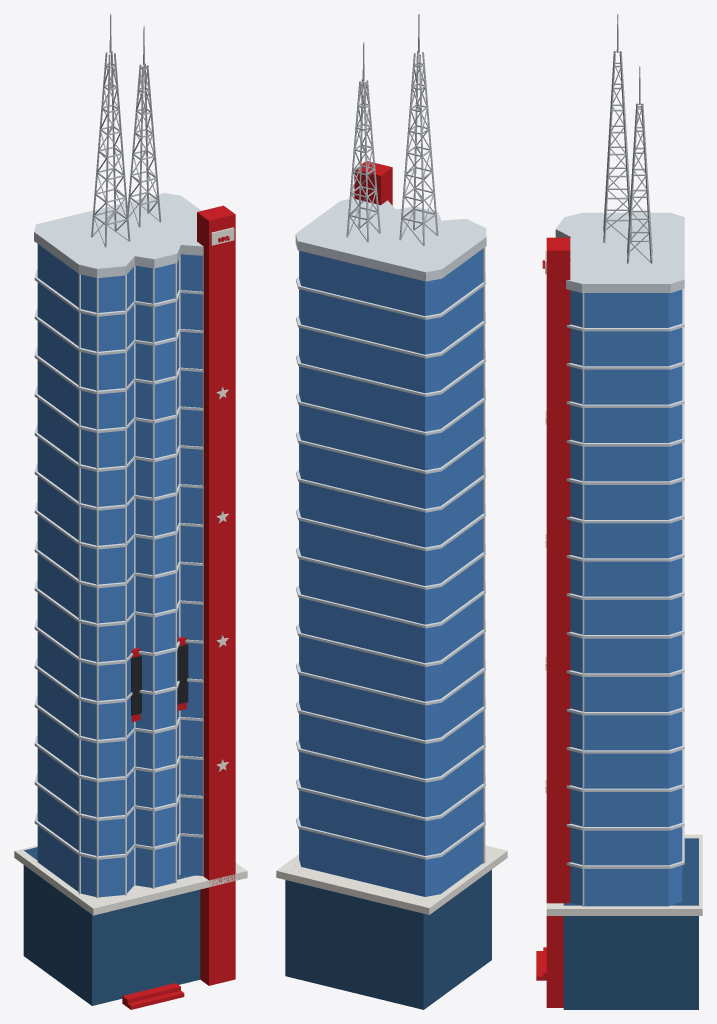
Rendered from nrs.glb.
The picture shows the model from 3 angles, left to right: view 1: azimuth 30°, elevation 25°; view 2: azimuth 150°, elevation 25°; view 3: azimuth 270°, elevation 25°; orthographic projection.
Visible parts, largest first — view 1: nrs_Building; view 2: nrs_Building; view 3: nrs_Building.
Part boxes in pixels (bbox=[...]): nrs_Building: bbox=[14, 14, 247, 1009]; nrs_Building: bbox=[276, 14, 507, 1009]; nrs_Building: bbox=[536, 14, 702, 1009].
Bounding box in the file's own units: 10.4 × 61.9 × 9.8.
